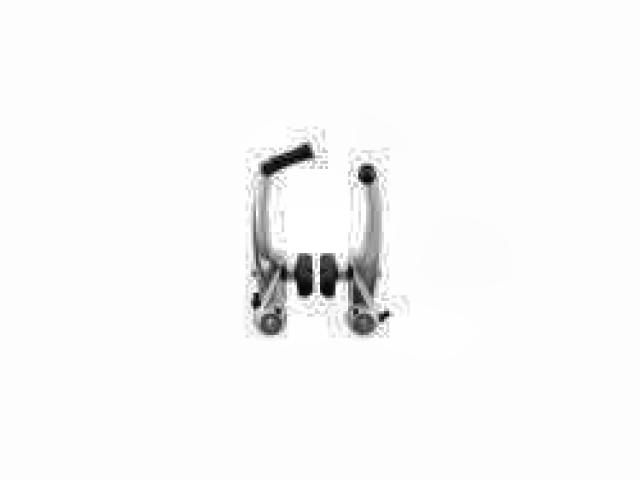rim_brake: (249, 142, 392, 338)
